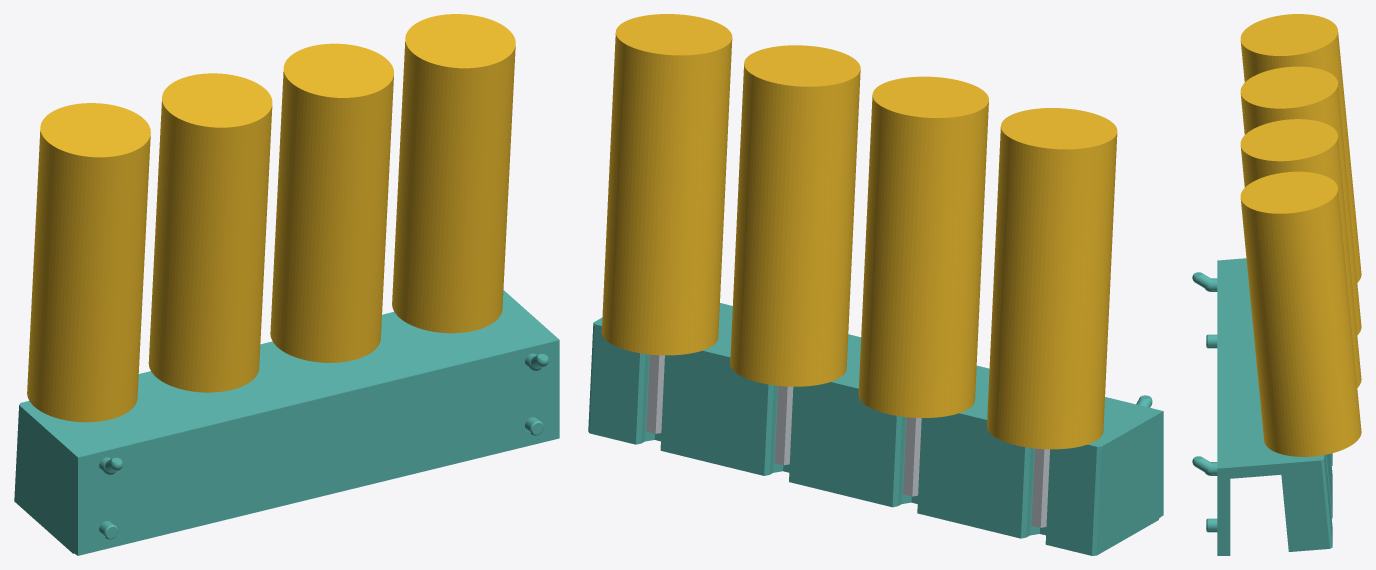
Rendered from part-mh04-magnetic-shaft-holder-quarter-inch-hex__v1__loaded.glb.
The picture shows the model from 3 angles, left to right: view 1: azimuth 30°, elevation 25°; view 2: azimuth 150°, elevation 25°; view 3: azimuth 270°, elevation 25°; orthographic projection. The views are drawn at different scales.
Parts seen in each view (by area): view 1: handles-reference, Actual holder mesh; view 2: handles-reference, Actual holder mesh, shafts-reference; view 3: handles-reference, Actual holder mesh.
Boxes of the visible parts, box(x1,y1,x2,y2) form: handles-reference: box(27, 14, 515, 422); Actual holder mesh: box(14, 290, 559, 555); handles-reference: box(601, 14, 1117, 449); Actual holder mesh: box(588, 303, 1163, 555); shafts-reference: box(646, 354, 1049, 527); handles-reference: box(1240, 14, 1361, 456); Actual holder mesh: box(1192, 258, 1332, 555).
Bounding box in the file's own units: 0.2012 × 0.1546 × 0.0691.
